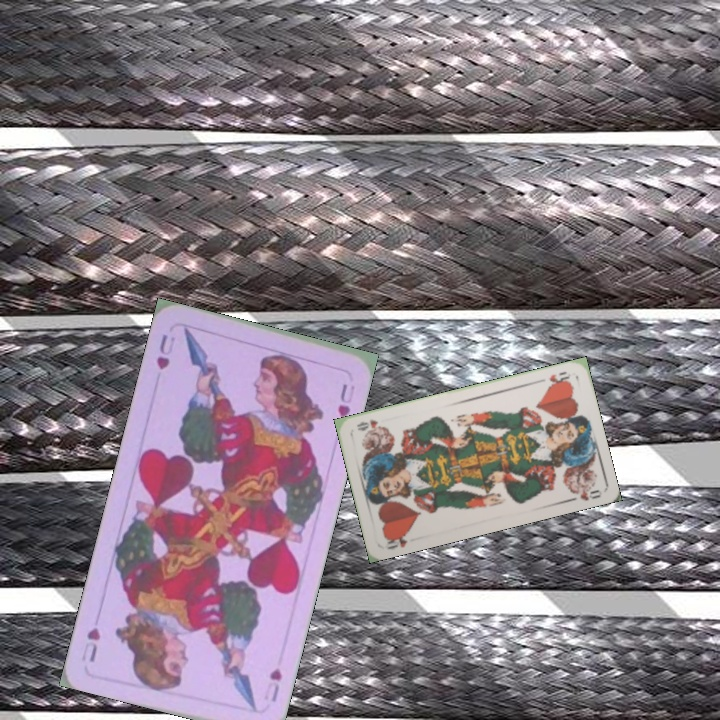HO: (534, 367, 573, 389), (381, 529, 410, 552)
HU: (152, 330, 178, 373), (265, 664, 285, 705)
